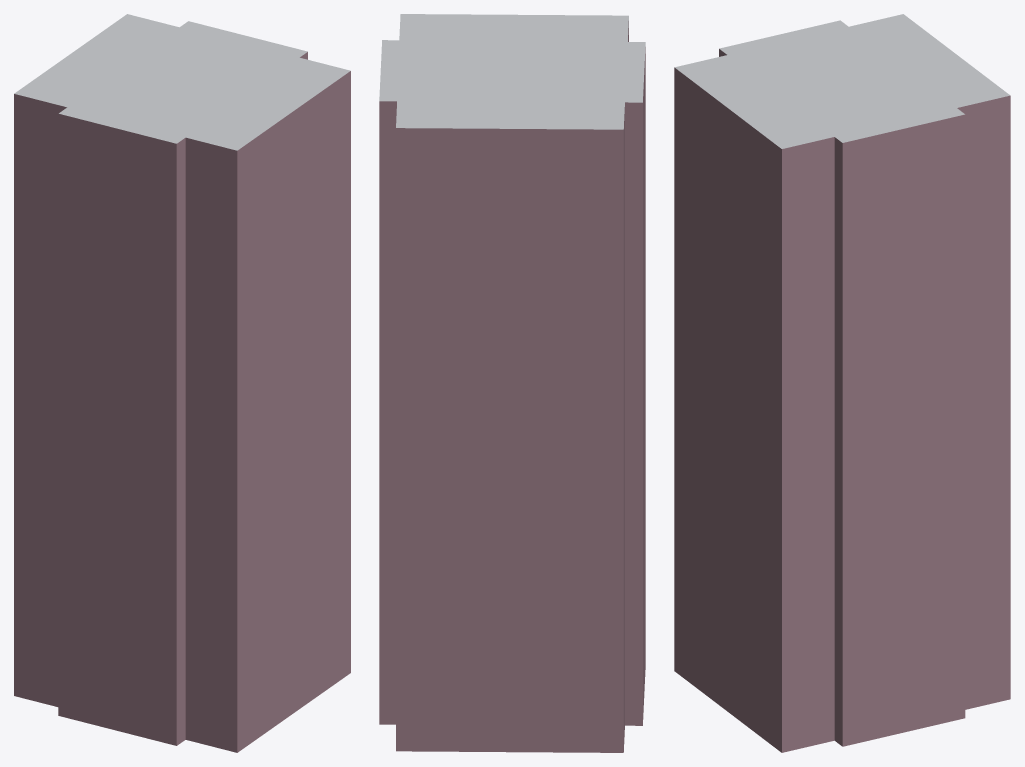
File: nyc-1015275-0.glb
3 views of the same model, side by side, from view 1: azimuth 30°, elevation 25°; view 2: azimuth 150°, elevation 25°; view 3: azimuth 270°, elevation 25° (orthographic). The views are drawn at different scales.
Visible parts, largest first — view 1: nyc-1015275-0; view 2: nyc-1015275-0; view 3: nyc-1015275-0.
Boxes of the visible parts, left/top/right/bottom form: nyc-1015275-0: left=14, top=14, right=350, bottom=752; nyc-1015275-0: left=379, top=14, right=645, bottom=752; nyc-1015275-0: left=674, top=14, right=1010, bottom=752.
Size of the model in its own units: 73.09 by 152 by 76.81.
